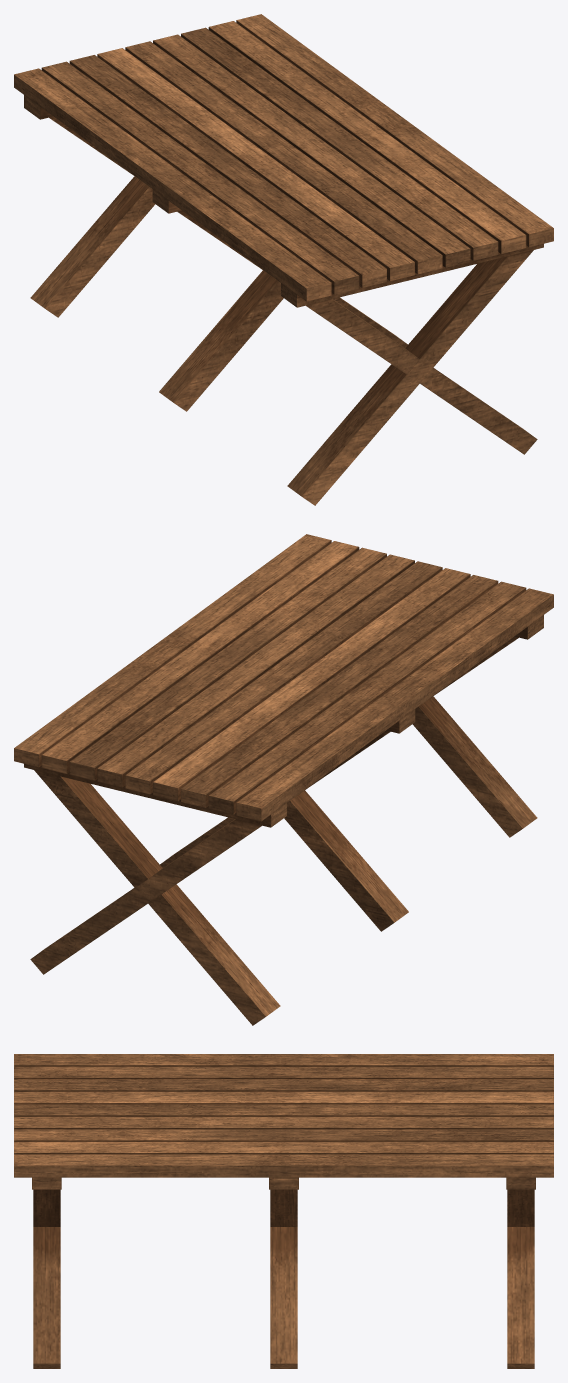
File: CampingTable2.fbx
3 renders of one model, top to bottom at view 1: azimuth 30°, elevation 25°; view 2: azimuth 150°, elevation 25°; view 3: azimuth 270°, elevation 25°, orthographic. The views are drawn at different scales.
Parts seen in each view (by area): view 1: CampingTable2; view 2: CampingTable2; view 3: CampingTable2.
Part boxes in pixels (x1,y1,x2,y2): CampingTable2: (14,14,553,505); CampingTable2: (14,534,553,1025); CampingTable2: (14,1054,553,1368).
Bounding box in the file's own units: 2.22 × 1.97 × 4.56.
